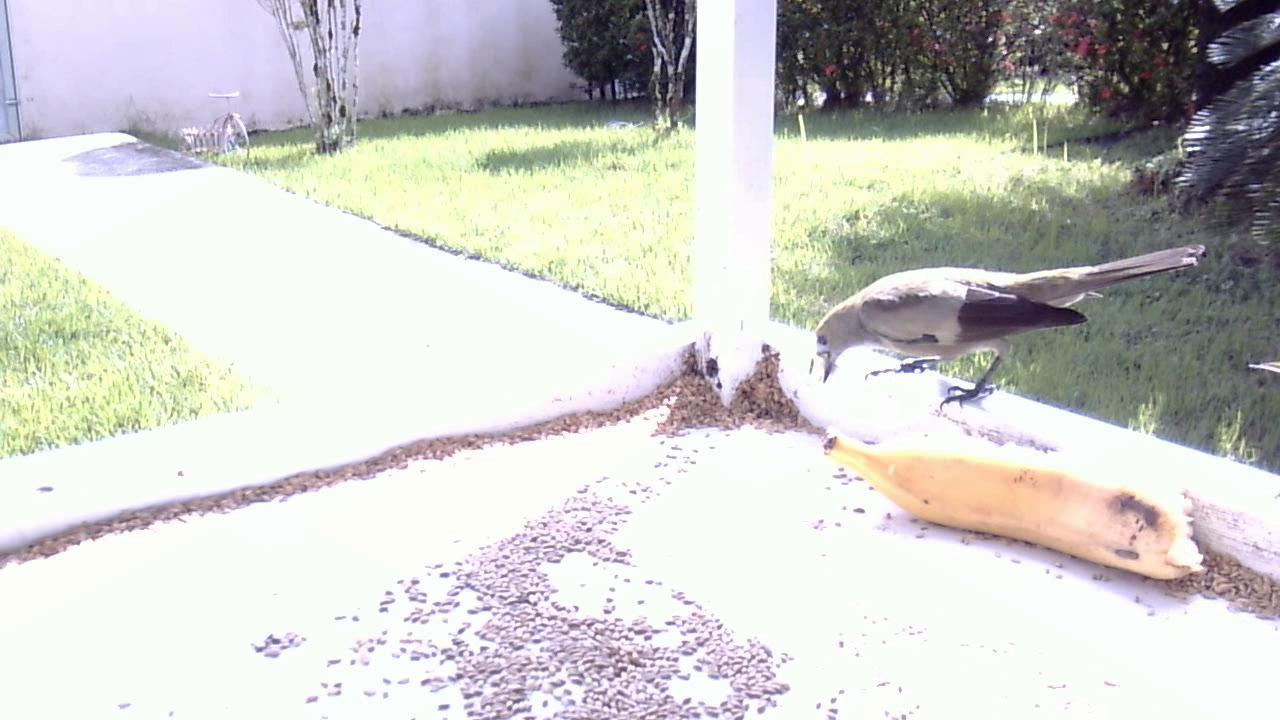sanhaco_do_coqueiro: (805, 241, 1196, 434)
